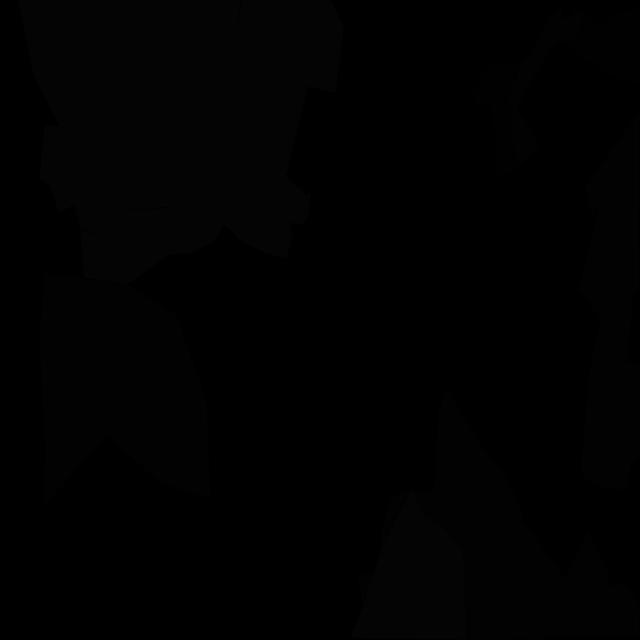cardboard: (435, 390, 640, 640), (40, 273, 211, 507), (381, 490, 518, 640), (579, 199, 640, 491), (508, 6, 582, 167), (584, 111, 639, 241), (358, 574, 372, 605)
rigid_plastic: (474, 60, 528, 176), (569, 4, 640, 86)
soft_plastic: (39, 0, 344, 258), (18, 0, 241, 167), (350, 489, 467, 640), (80, 208, 169, 284)
